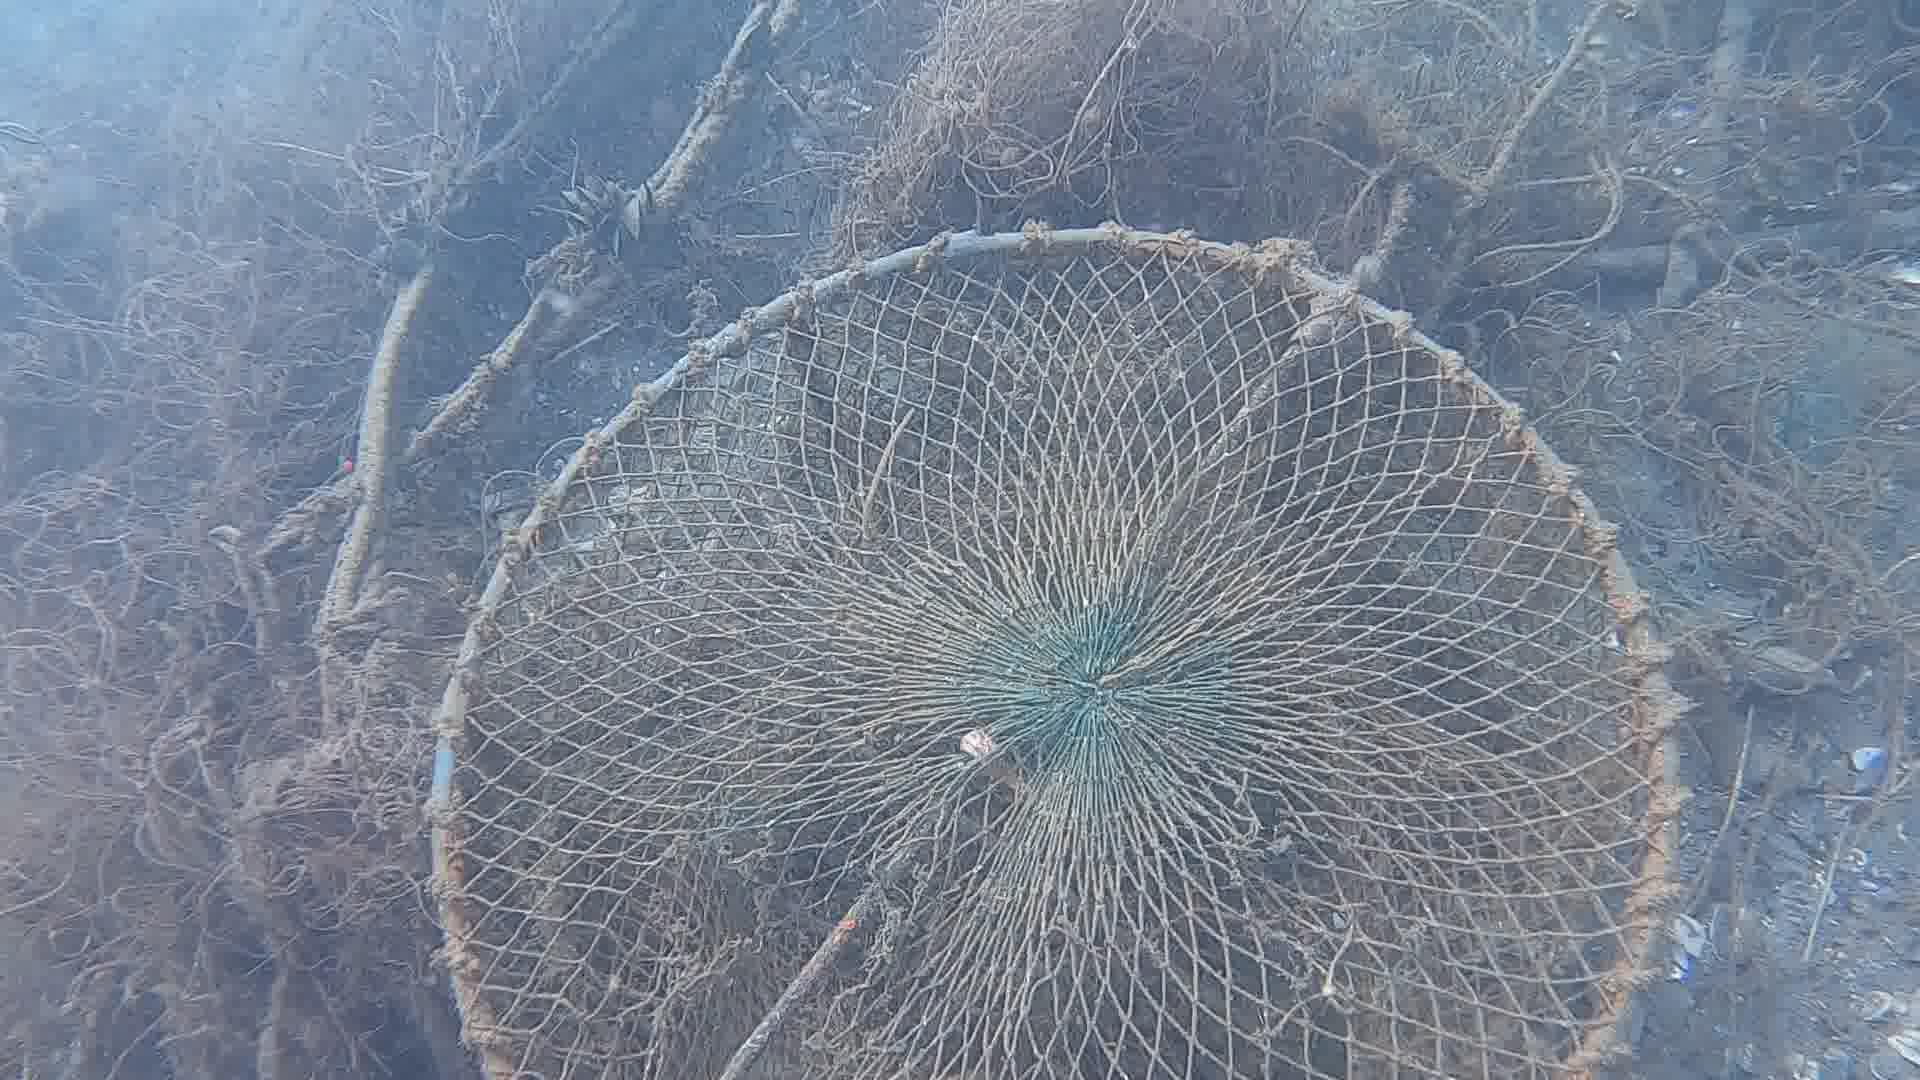circular fish trap: (426, 220, 1691, 1080)
